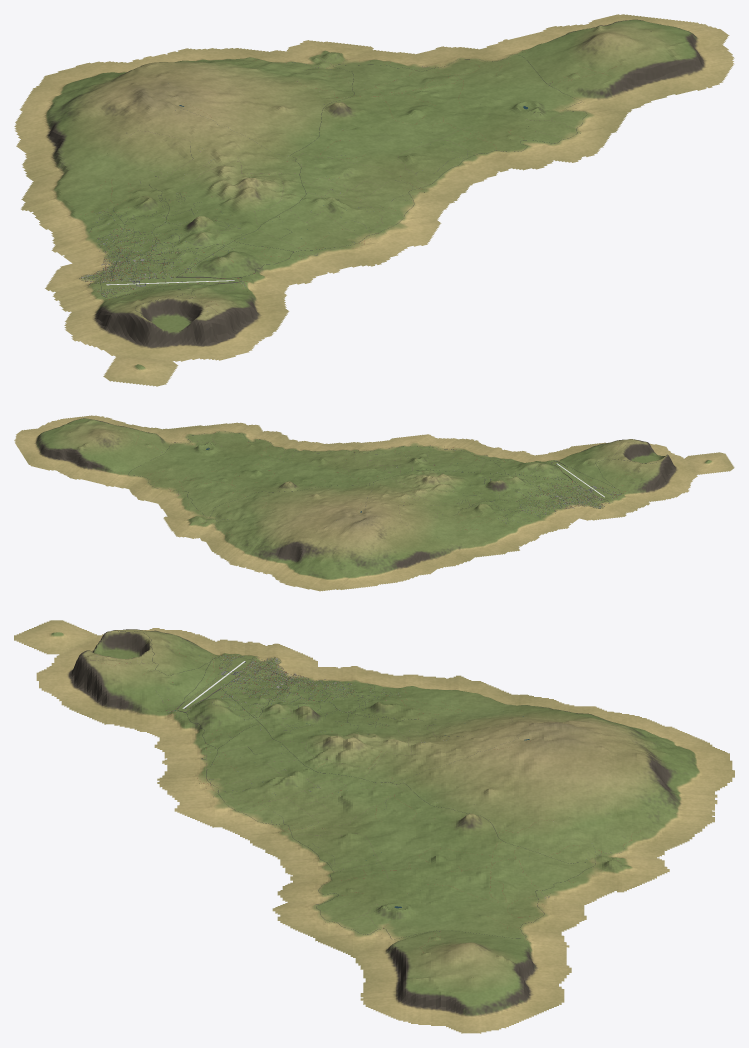
The model's file is map.gltf.
The picture shows the model from 3 angles, top to bottom: view 1: azimuth 30°, elevation 25°; view 2: azimuth 150°, elevation 25°; view 3: azimuth 270°, elevation 25°; orthographic projection. The views are drawn at different scales.
Visible parts, largest first — view 1: Terrain, OSM_Roads, Airport_Buildings, OSM_Buildings; view 2: Terrain, OSM_Roads, Airport_Buildings; view 3: Terrain, OSM_Roads, Airport_Buildings, OSM_Buildings.
Boxes of the visible parts, <box> form: Terrain: <box>14,14,734,386</box>; OSM_Roads: <box>79,55,616,317</box>; Airport_Buildings: <box>81,247,245,300</box>; OSM_Buildings: <box>93,66,552,318</box>; Terrain: <box>14,415,734,591</box>; OSM_Roads: <box>128,431,656,532</box>; Airport_Buildings: <box>523,460,630,508</box>; Terrain: <box>14,620,734,1033</box>; OSM_Roads: <box>90,631,631,952</box>; Airport_Buildings: <box>168,649,280,716</box>; OSM_Buildings: <box>96,630,592,904</box>.
Size of the model in its own units: 24312 by 1077 by 17938.
29 materials, 13 textured.
